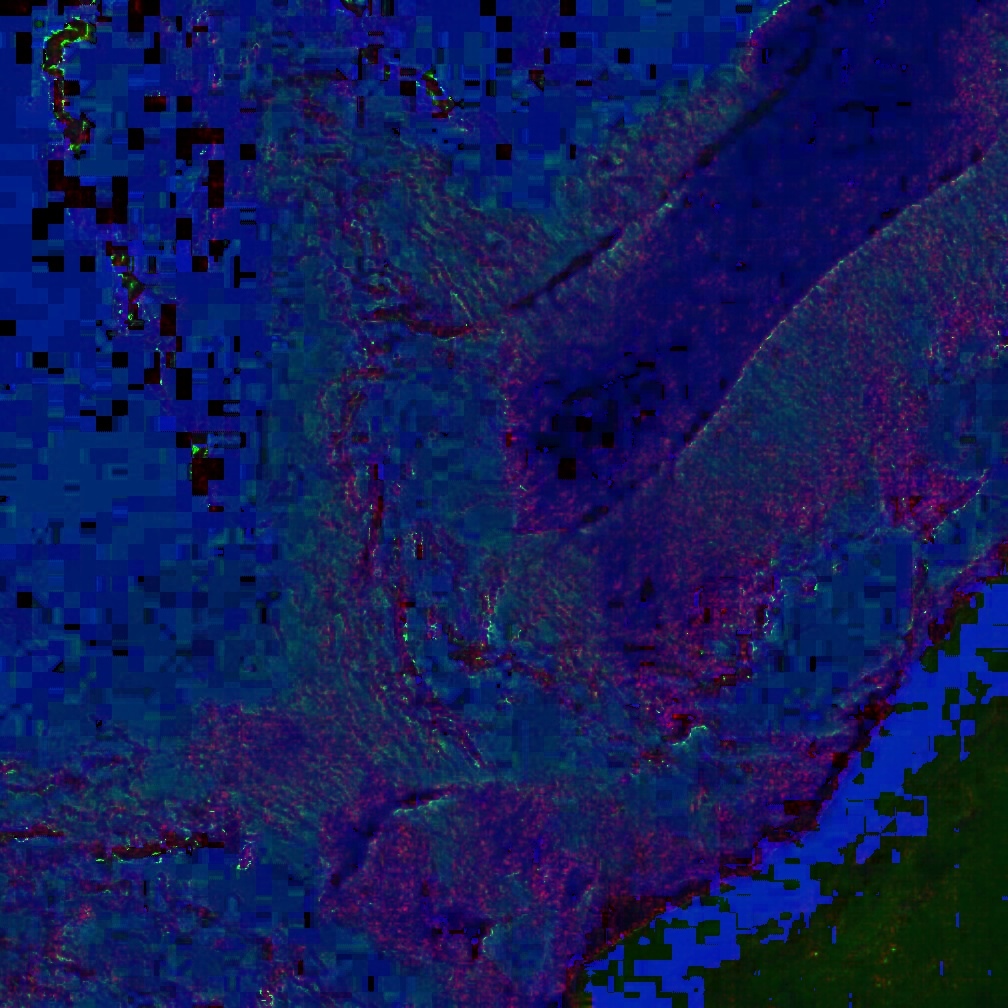rip_current: (213, 81, 765, 848)
